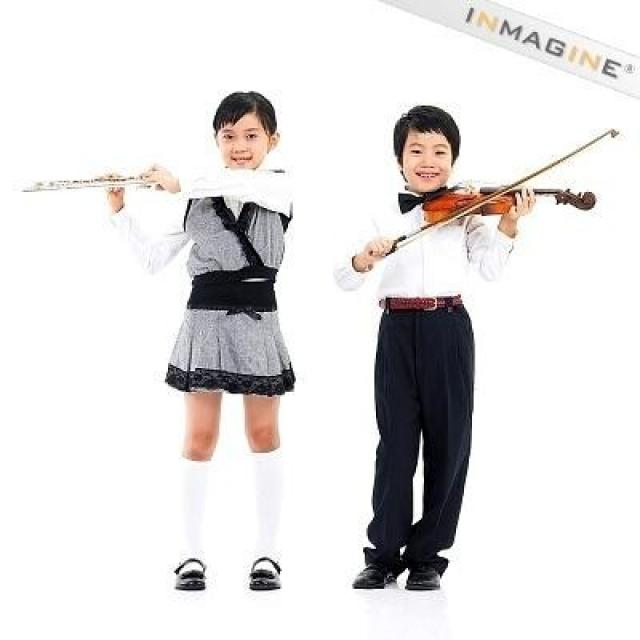violin: (428, 180, 602, 223)
